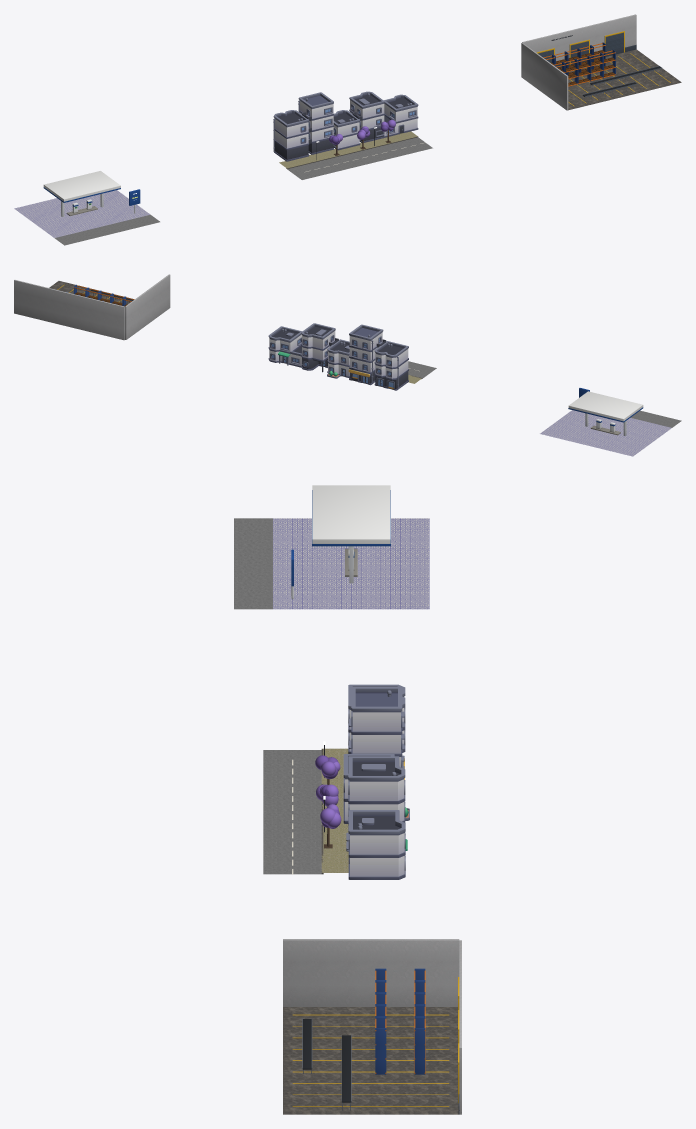
Rendered from set.glb.
3 renders of one model, top to bottom at view 1: azimuth 30°, elevation 25°; view 2: azimuth 150°, elevation 25°; view 3: azimuth 270°, elevation 25°, orthographic. The views are drawn at different scales.
Parts seen in each view (by area): view 1: playa, nave_piso, nave_fondo, calle, nave_izq, building-g_18, building-a_17, techo, building-b_20, building-e_21, calle_estacion, vereda (+1 smaller); view 2: nave_fondo, playa, building-g_18, nave_izq, building-a_17, building-b_20, techo, building-e_21, building-c_19, calle_estacion, nave_piso, calle; view 3: nave_piso, playa, nave_izq, calle, techo, building-e_21, building-g_18, calle_estacion, building-b_20, vereda.
Boxes of the visible parts, x1,y1,x2,y2 form: playa: (14, 190, 149, 237); nave_piso: (560, 49, 681, 110); nave_fondo: (522, 14, 636, 62); calle: (287, 137, 432, 179); nave_izq: (521, 42, 568, 110); building-g_18: (298, 92, 333, 154); building-a_17: (273, 110, 309, 161); techo: (43, 171, 120, 201); building-b_20: (349, 91, 384, 142); building-e_21: (374, 94, 418, 137); calle_estacion: (54, 214, 159, 245); vereda: (279, 131, 417, 168); nave_fondo: (14, 280, 124, 340); playa: (540, 410, 671, 456); building-g_18: (348, 324, 386, 385); nave_izq: (125, 274, 170, 339); building-a_17: (374, 341, 408, 390); building-b_20: (301, 323, 338, 372); techo: (568, 391, 643, 421); building-e_21: (268, 326, 302, 367); building-c_19: (327, 339, 349, 378); calle_estacion: (630, 410, 681, 427); nave_piso: (49, 281, 130, 304); calle: (408, 361, 436, 378); nave_piso: (283, 1007, 458, 1114); playa: (273, 518, 429, 609); nave_izq: (283, 939, 459, 1006); calle: (263, 750, 321, 874); techo: (312, 485, 390, 543); building-e_21: (346, 810, 407, 879); building-g_18: (349, 687, 404, 779); calle_estacion: (234, 518, 272, 609); building-b_20: (348, 756, 405, 833); vereda: (321, 748, 348, 872).
Size of the model in its own units: 144 by 10.7 by 23.3.
Materials: 306 (76 with a texture image).
